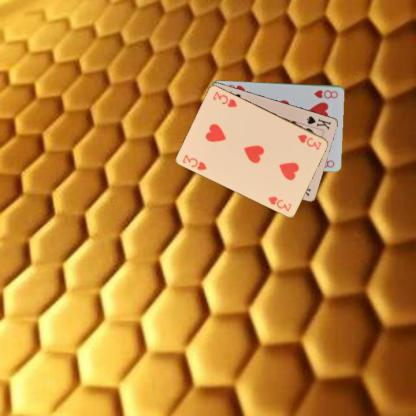3h: (180, 152, 208, 172), (295, 132, 323, 151)
8h: (312, 87, 339, 100)
Ks: (304, 113, 332, 131)
